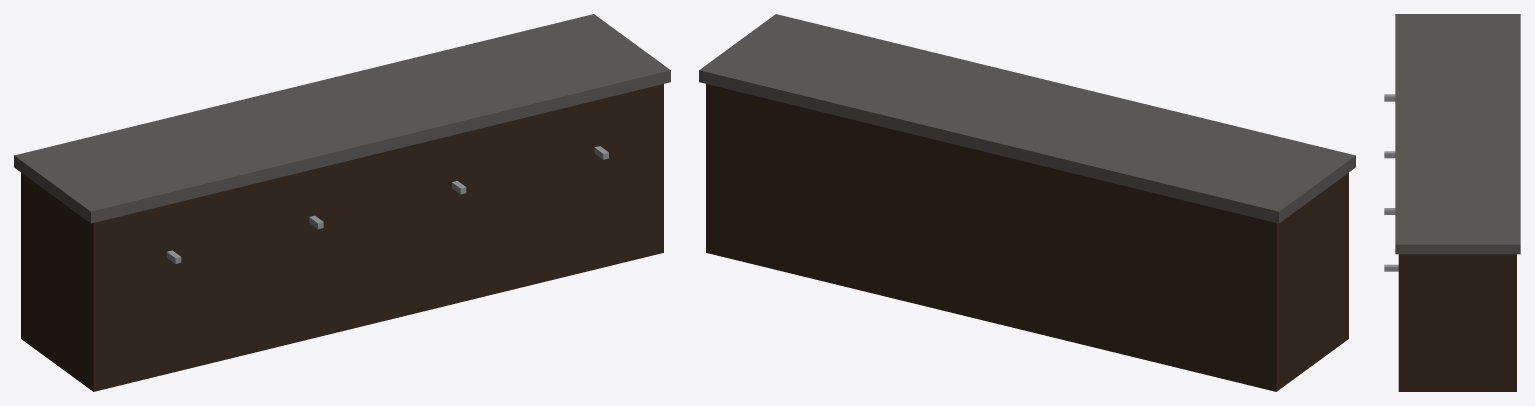
The model's file is PRP_Counter_A.glb.
3 views of the same model, side by side, from view 1: azimuth 30°, elevation 25°; view 2: azimuth 150°, elevation 25°; view 3: azimuth 270°, elevation 25° (orthographic). The views are drawn at different scales.
Visible parts, largest first — view 1: PRP_Counter_A_Body, PRP_Counter_A_Top; view 2: PRP_Counter_A_Body, PRP_Counter_A_Top; view 3: PRP_Counter_A_Top, PRP_Counter_A_Body.
Part boxes in pixels (box(x1,y1,x2,y2)): PRP_Counter_A_Body: box(21, 84, 663, 391); PRP_Counter_A_Top: box(14, 14, 670, 223); PRP_Counter_A_Body: box(706, 84, 1348, 391); PRP_Counter_A_Top: box(699, 14, 1355, 223); PRP_Counter_A_Top: box(1395, 14, 1520, 254); PRP_Counter_A_Body: box(1398, 254, 1516, 391).
Bounding box in the file's own units: 3.05 × 0.92 × 0.76.
